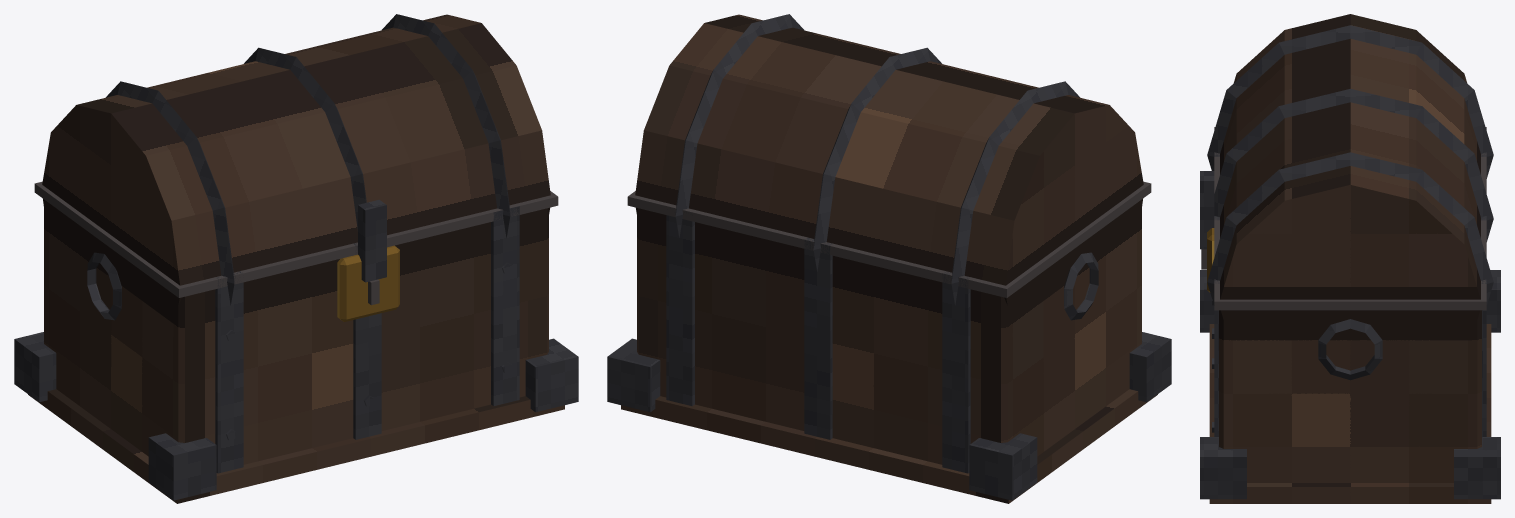
File: castle_chest.glb
The picture shows the model from 3 angles, left to right: view 1: azimuth 30°, elevation 25°; view 2: azimuth 150°, elevation 25°; view 3: azimuth 270°, elevation 25°; orthographic projection. The views are drawn at different scales.
Visible parts, largest first — view 1: body; view 2: body; view 3: body.
Boxes of the visible parts, x1=… form: body: x1=14, y1=14, x2=578, y2=503; body: x1=607, y1=14, x2=1171, y2=503; body: x1=1200, y1=14, x2=1500, y2=503.
Bounding box in the file's own units: 0.94 × 0.765 × 0.64.
4 materials, 3 textured.
